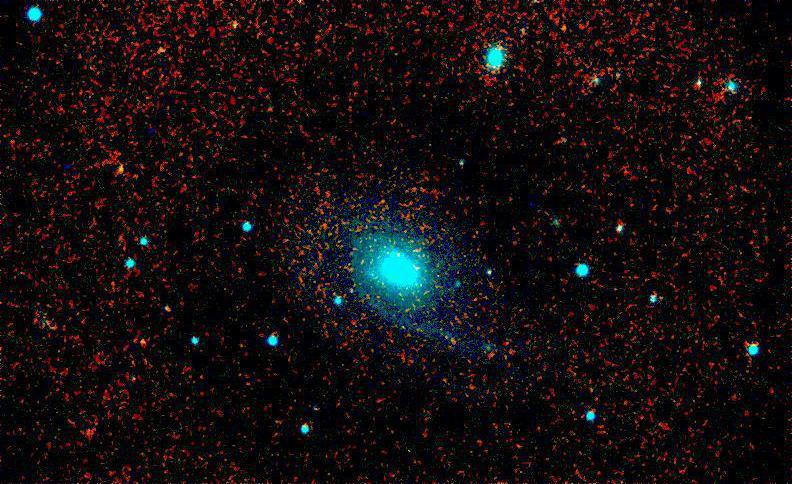star: (132, 323, 162, 353)
